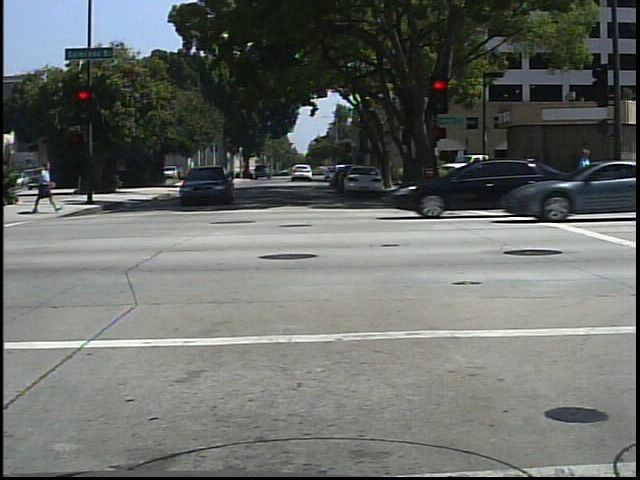person: (570, 143, 601, 209), (33, 157, 56, 218)
